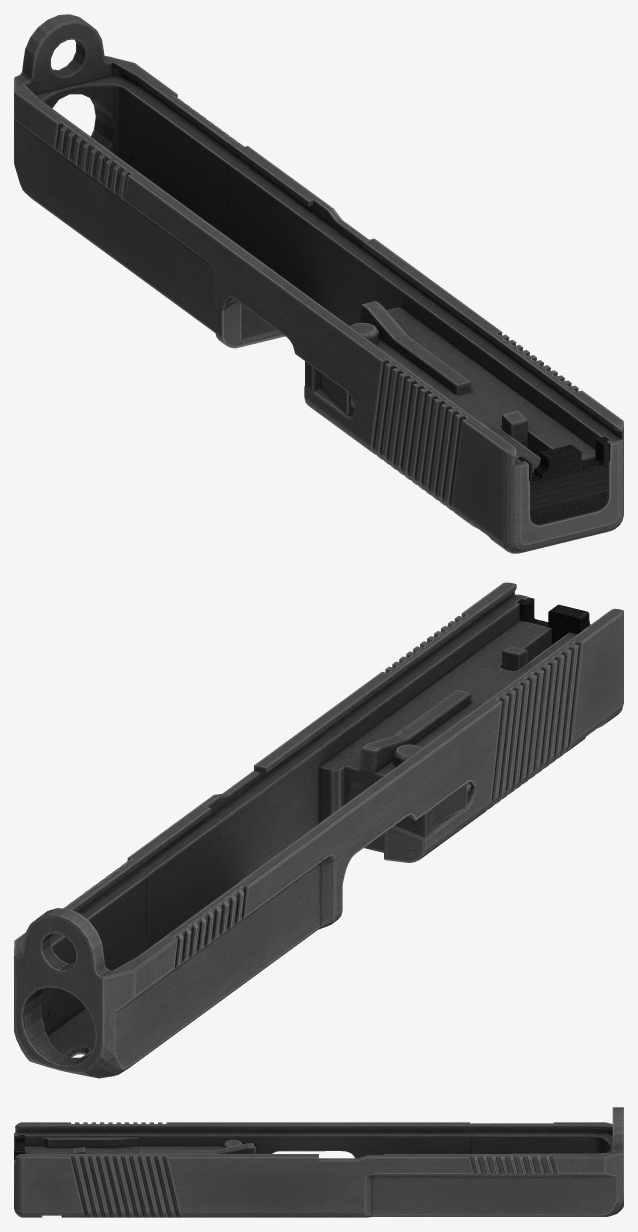
The picture shows the model from 3 angles, top to bottom: view 1: azimuth 30°, elevation 25°; view 2: azimuth 150°, elevation 25°; view 3: azimuth 270°, elevation 25°; orthographic projection. The views are drawn at different scales.
Visible parts, largest first — view 1: TW_5a7033908dc32e000a311392_PZ_Import; view 2: TW_5a7033908dc32e000a311392_PZ_Import; view 3: TW_5a7033908dc32e000a311392_PZ_Import.
Boxes of the visible parts, x1,y1,x2,y2 form: TW_5a7033908dc32e000a311392_PZ_Import: (14,14,623,553); TW_5a7033908dc32e000a311392_PZ_Import: (14,582,623,1078); TW_5a7033908dc32e000a311392_PZ_Import: (14,1107,623,1217).
Bounding box in the file's own units: 0.0144 × 0.1057 × 0.0181.
Materials: 1 (1 with a texture image).
